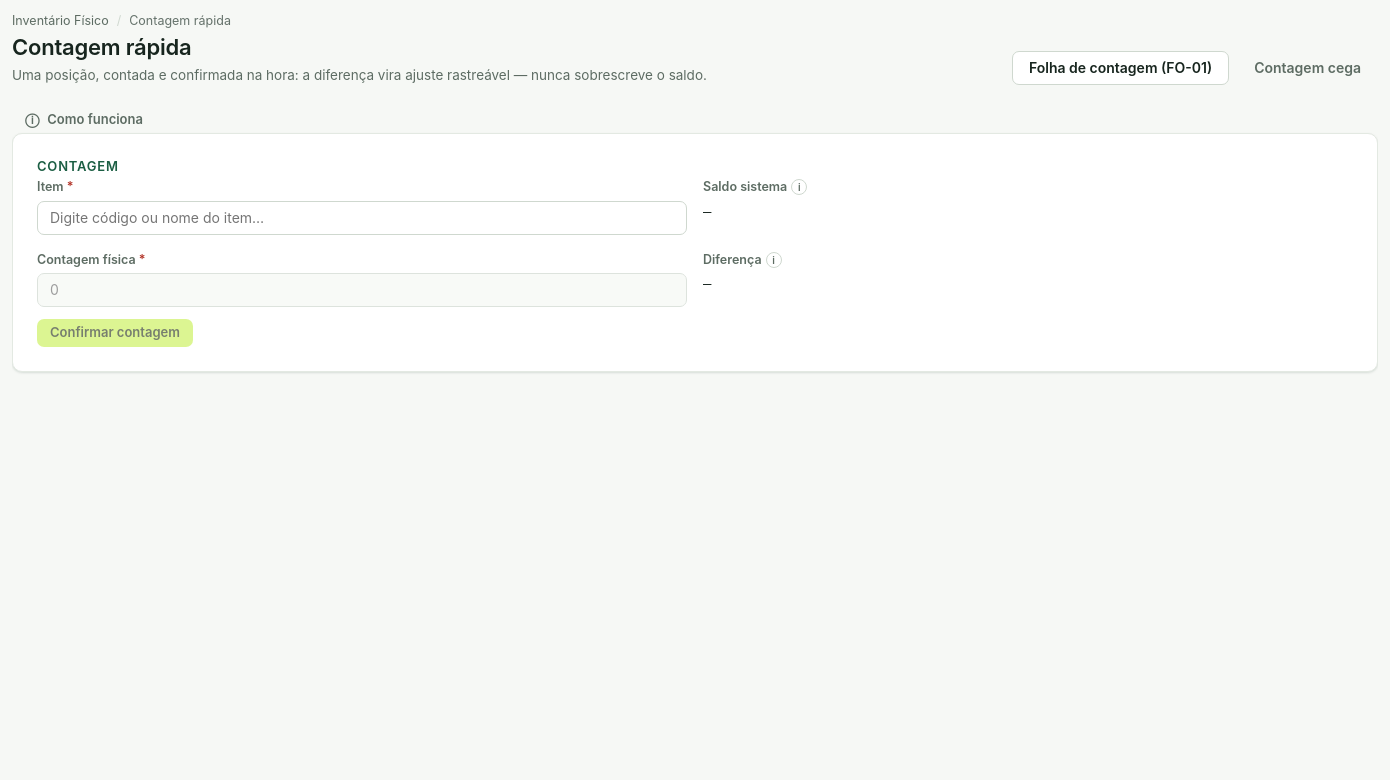
Test: Contagem rápida — retenção antes do saldo › lote livre com dono, situação, validade, local e saldo; lote retido só aponta o INV-, sem saldo
Focus the dropdown with id "count-item" at {"x": 362, "y": 218}, box [37,201,687,235]
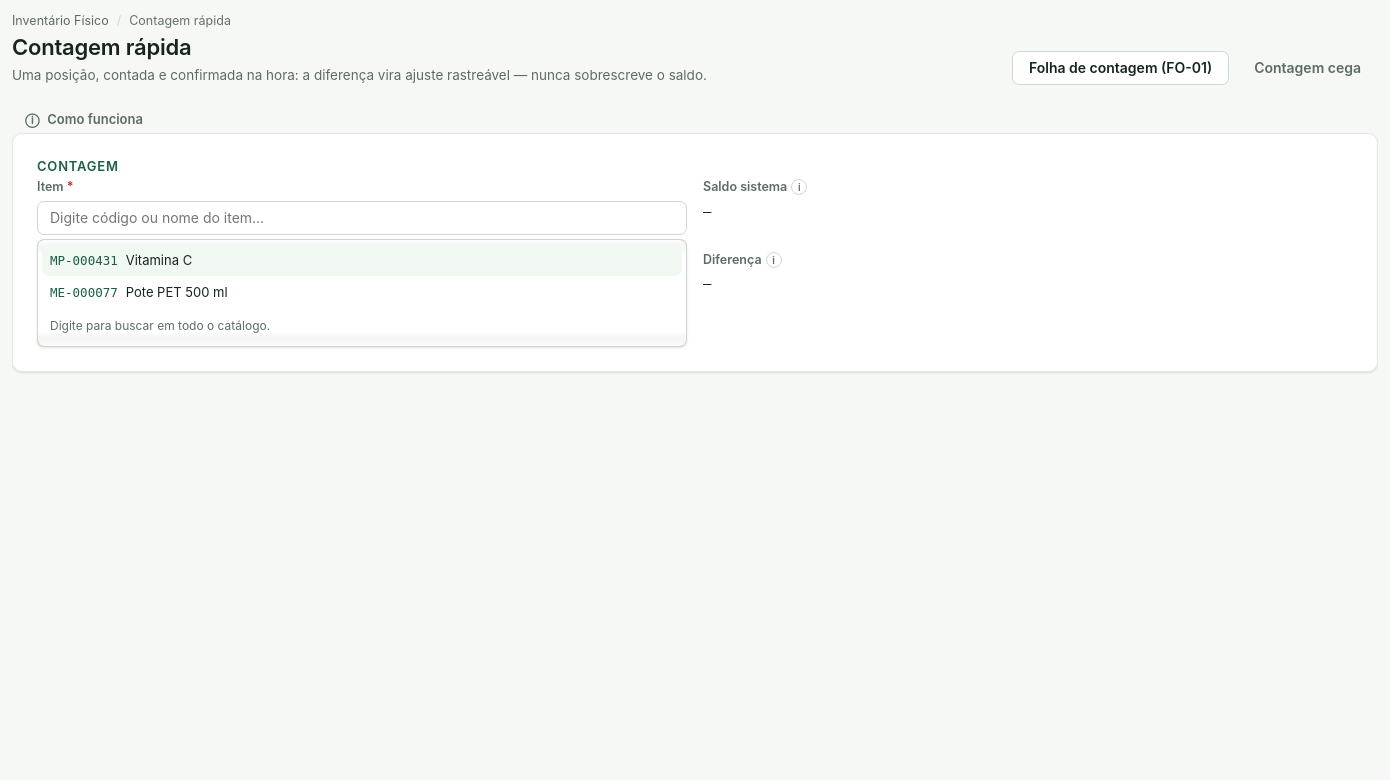
Press the mouse on the option "MP-000431 Vitamina C" at {"x": 84, "y": 260}, box [42,244,682,276]
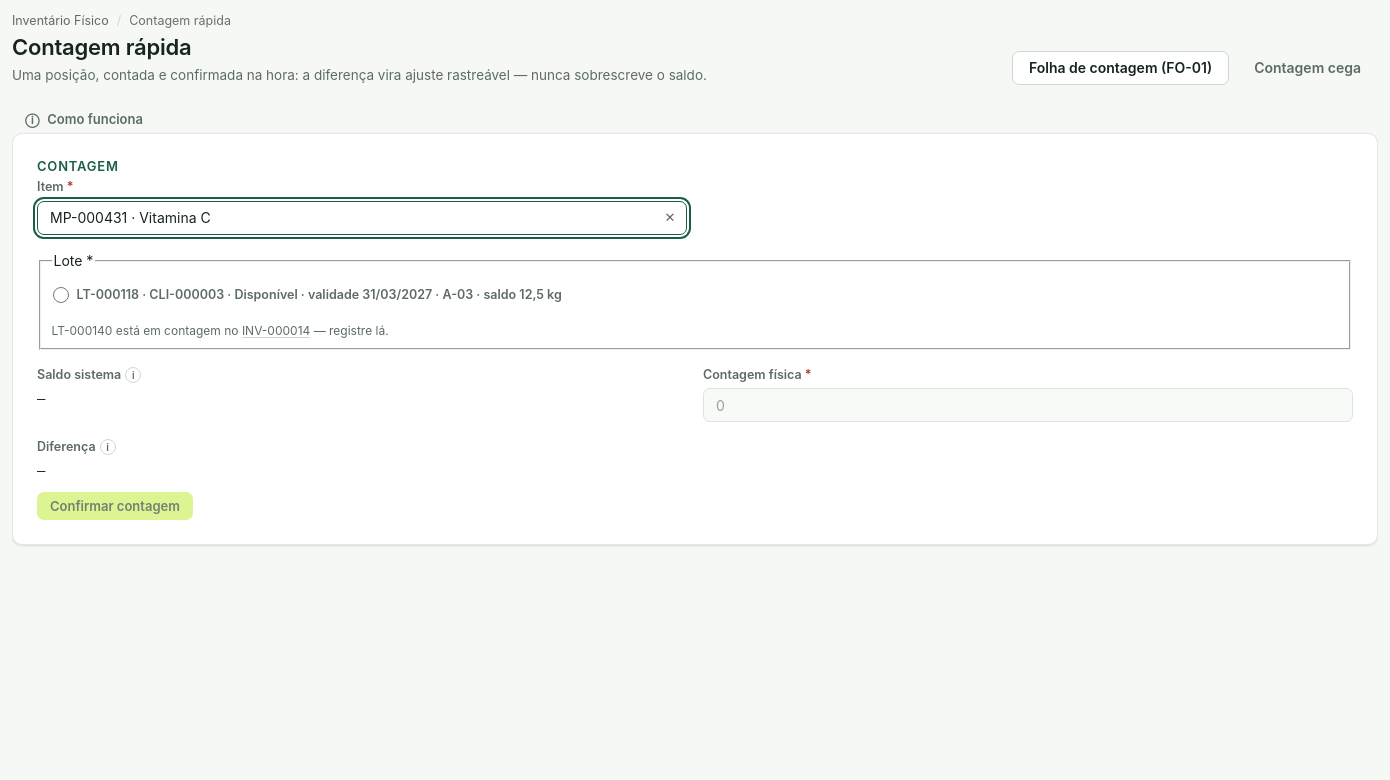
Expected: the label "LT-000118" reads "LT-000118 · CLI-000003 · Disponível · validade 31/03/2027 · A-03 · saldo 12,5 kg", [52,287,562,303]
Expected: the element named "Lotes do item" shows "LT-000140 está em contagem no INV-000014 — registre lá.", [52,287,562,338]
